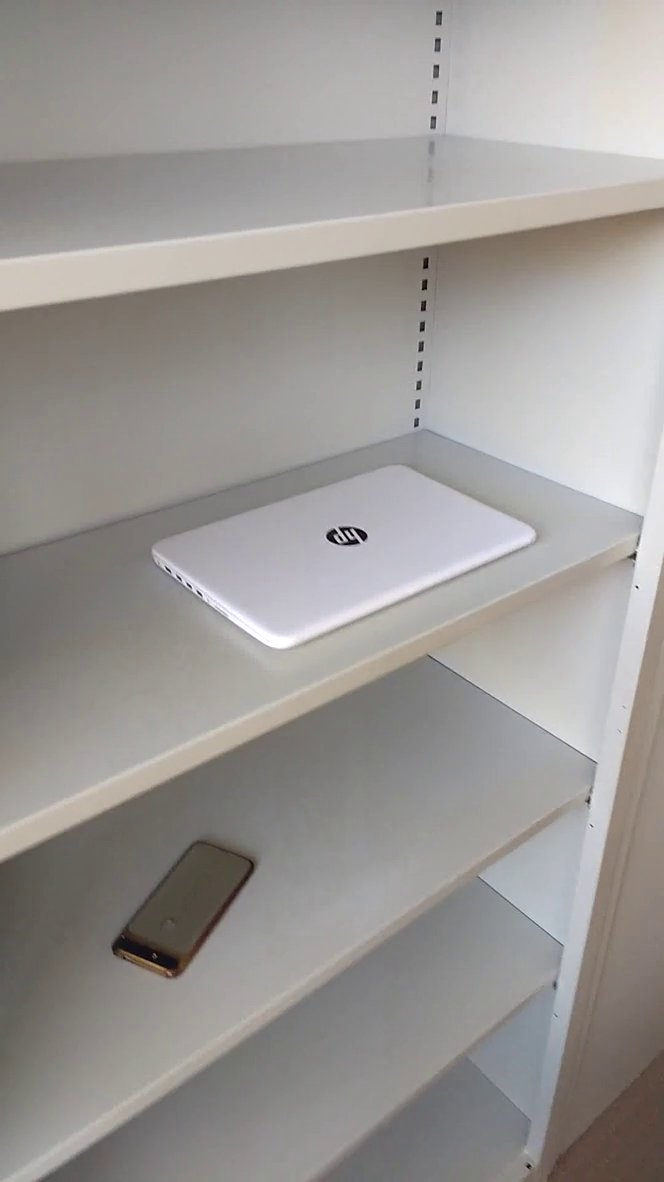laptop: (143, 455, 558, 659)
phone: (103, 831, 270, 984)
